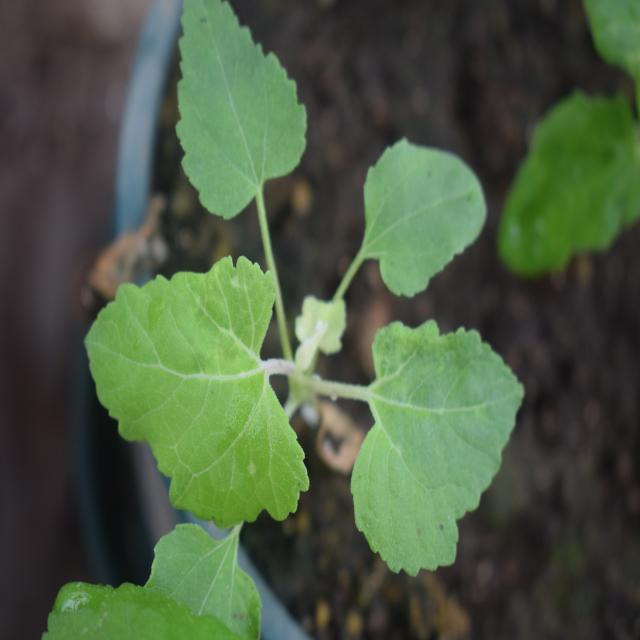cocklebur: (84, 35, 524, 561)
